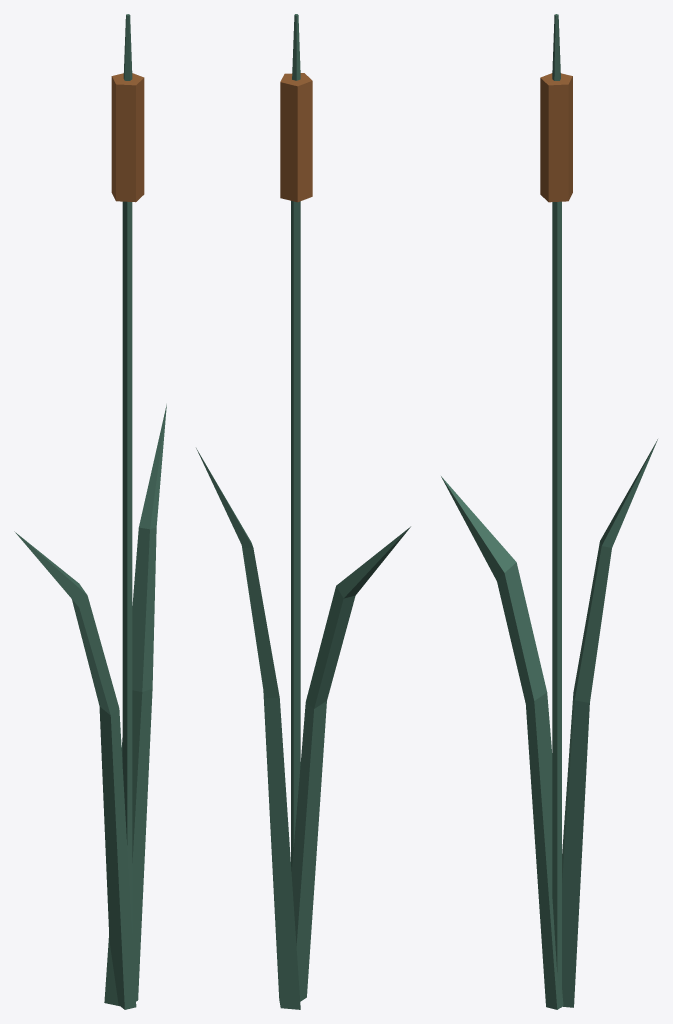
The model's file is reed-1.fbx.
The picture shows the model from 3 angles, left to right: view 1: azimuth 30°, elevation 25°; view 2: azimuth 150°, elevation 25°; view 3: azimuth 330°, elevation 25°; orthographic projection.
Parts seen in each view (by area): view 1: reed-1; view 2: reed-1; view 3: reed-1.
Part boxes in pixels (box(x1,y1,x2,y2)): reed-1: box(14, 14, 166, 1009); reed-1: box(196, 14, 410, 1009); reed-1: box(441, 14, 657, 1009).
Bounding box in the file's own units: 0.0828 × 0.423 × 0.0306.
